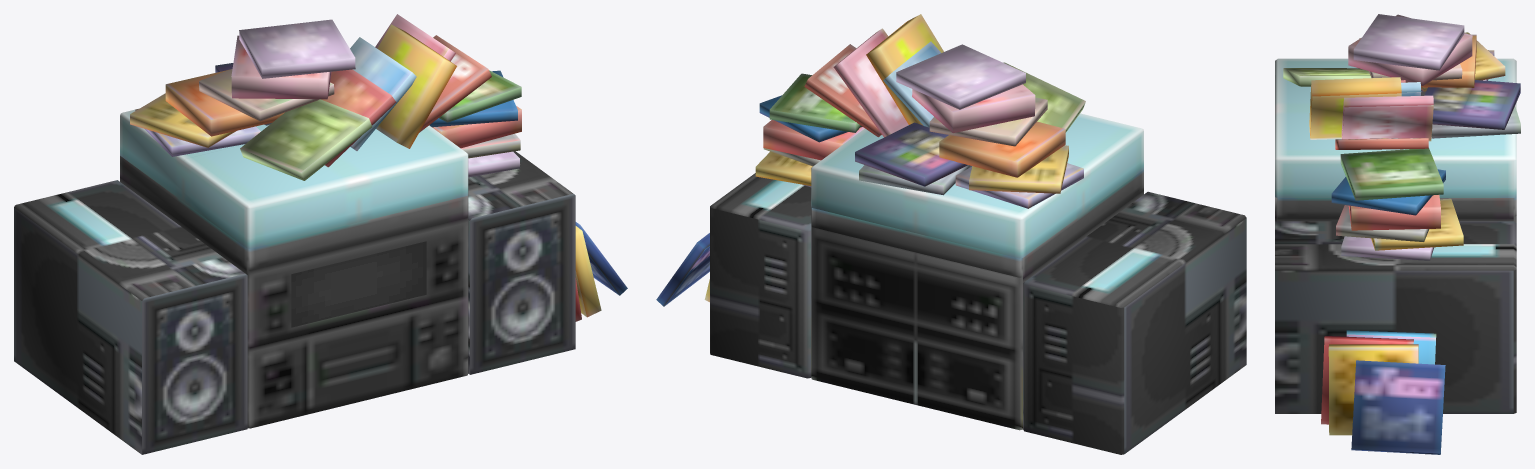
Rendered from int_lse_audioM.dae.
3 renders of one model, left to right at view 1: azimuth 30°, elevation 25°; view 2: azimuth 150°, elevation 25°; view 3: azimuth 270°, elevation 25°, orthographic. The views are drawn at different scales.
Parts seen in each view (by area): view 1: int_lse_audioM; view 2: int_lse_audioM; view 3: int_lse_audioM.
Part boxes in pixels (x1,y1,x2,y2): int_lse_audioM: (14, 14, 627, 454); int_lse_audioM: (656, 14, 1246, 454); int_lse_audioM: (1275, 14, 1520, 454).
Bounding box in the file's own units: 53.92 × 29.76 × 23.29.
4 materials, 4 textured.
